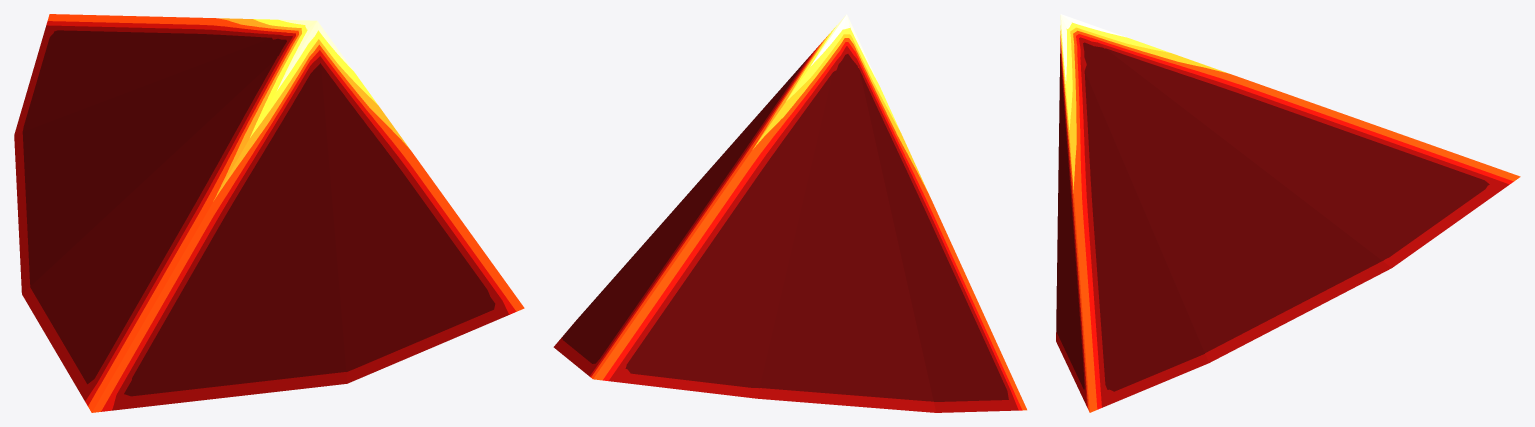
The model's file is molten_crystal_119.glb.
3 views of the same model, side by side, from view 1: azimuth 30°, elevation 25°; view 2: azimuth 150°, elevation 25°; view 3: azimuth 270°, elevation 25° (orthographic). The views are drawn at different scales.
Parts seen in each view (by area): view 1: molten_crystal_119; view 2: molten_crystal_119; view 3: molten_crystal_119.
Boxes of the visible parts, x1=… form: molten_crystal_119: x1=14, y1=14, x2=524, y2=412; molten_crystal_119: x1=553, y1=14, x2=1026, y2=412; molten_crystal_119: x1=1056, y1=14, x2=1520, y2=412.
Bounding box in the file's own units: 19.08 × 15.51 × 20.67.
